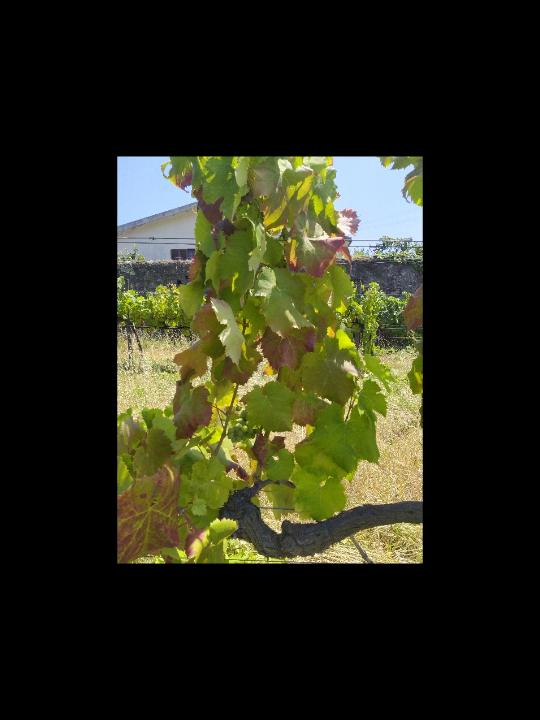grape: (225, 404, 257, 446)
